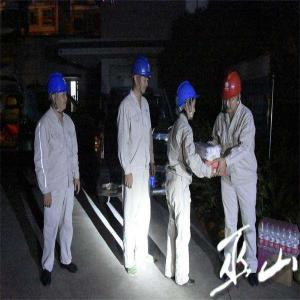blue: (46, 73, 70, 115), (131, 55, 153, 100), (176, 81, 199, 124)
red: (221, 71, 243, 116)
